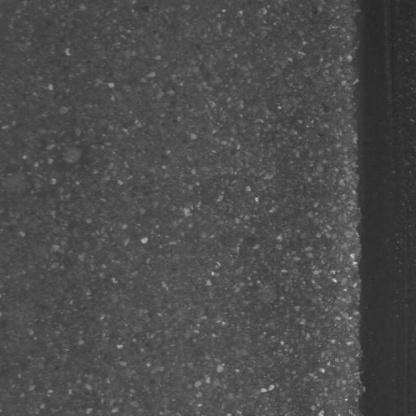Cracks: (380, 0, 406, 199), (392, 265, 416, 416)
